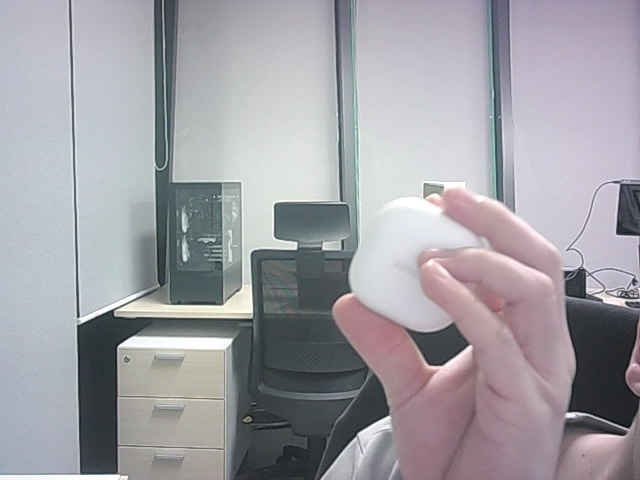case: (348, 197, 488, 332)
